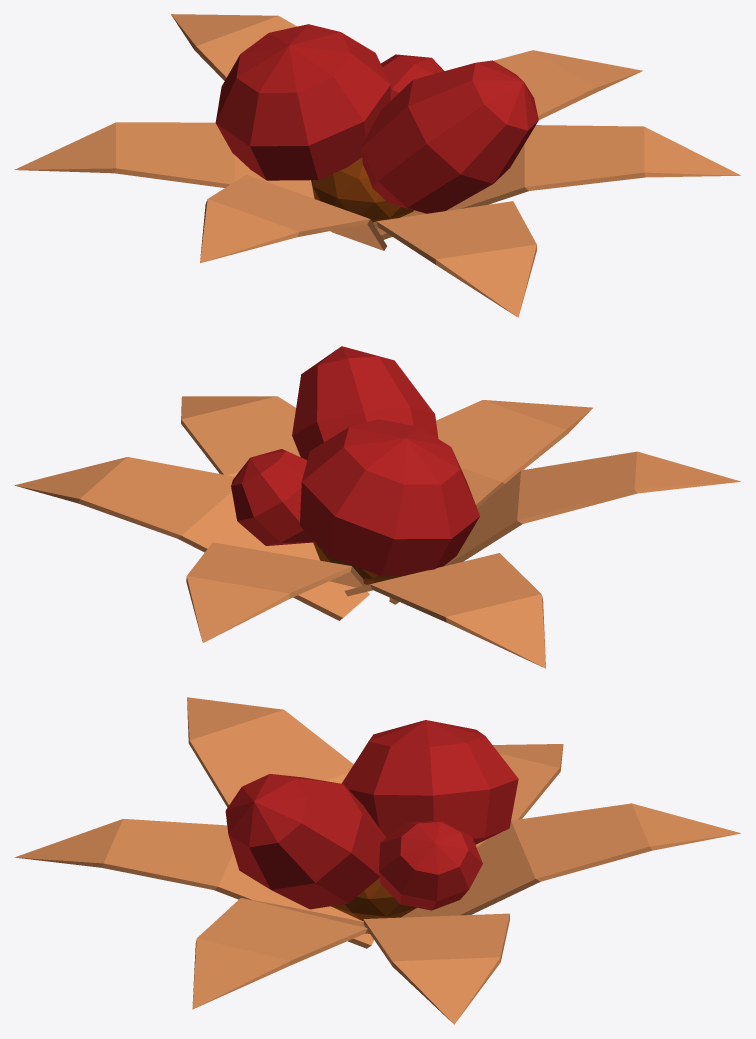
Rendered from Flower_f_c_02.fbx.
3 renders of one model, top to bottom at view 1: azimuth 30°, elevation 25°; view 2: azimuth 150°, elevation 25°; view 3: azimuth 270°, elevation 25°, orthographic. The views are drawn at different scales.
Visible parts, largest first — view 1: Flower_f_c_02_LOD0; view 2: Flower_f_c_02_LOD0; view 3: Flower_f_c_02_LOD0.
Boxes of the visible parts, bbox=[...] form: Flower_f_c_02_LOD0: bbox=[14, 14, 740, 317]; Flower_f_c_02_LOD0: bbox=[14, 346, 740, 668]; Flower_f_c_02_LOD0: bbox=[14, 697, 741, 1024].
Size of what is drawn, in the model's own units: 3.83 by 1.19 by 4.19.
